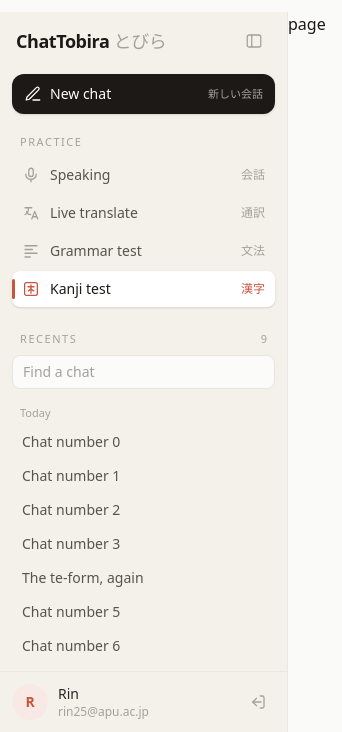
Scenario: app sidebar › offers a filter once the list is long, and it narrows the list
Type "te-form" into the field labelled "Find a chat" at (144,372), box [12,355,275,389]
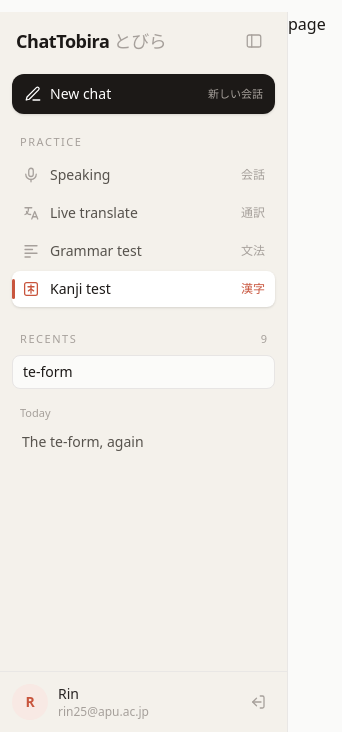
Check: the link "The te-form, again" is shown, box [22,432,144,450]
Check: the link "Chat number 0" is gone
